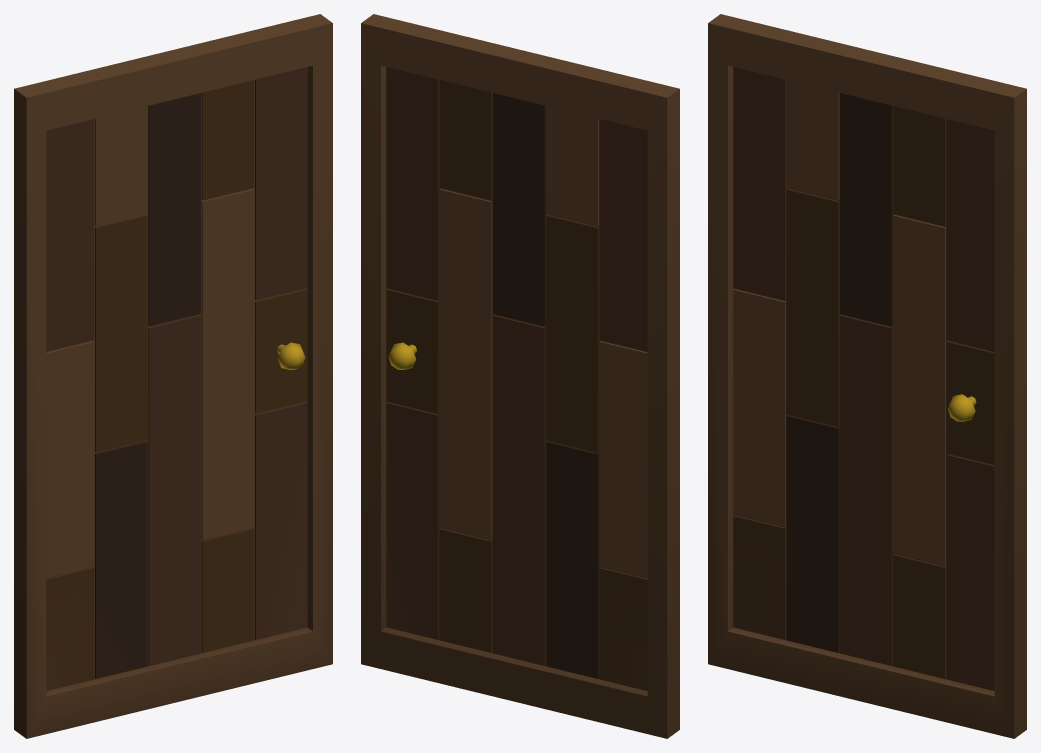
File: Door.fbx
3 renders of one model, left to right at view 1: azimuth 30°, elevation 25°; view 2: azimuth 150°, elevation 25°; view 3: azimuth 330°, elevation 25°, orthographic.
Visible parts, largest first — view 1: Door; view 2: Door; view 3: Door.
Boxes of the visible parts, x1=… form: Door: x1=14, y1=14, x2=332, y2=738; Door: x1=361, y1=14, x2=679, y2=738; Door: x1=708, y1=14, x2=1026, y2=738.
Size of the model in its own units: 100 by 200 by 21.17.
